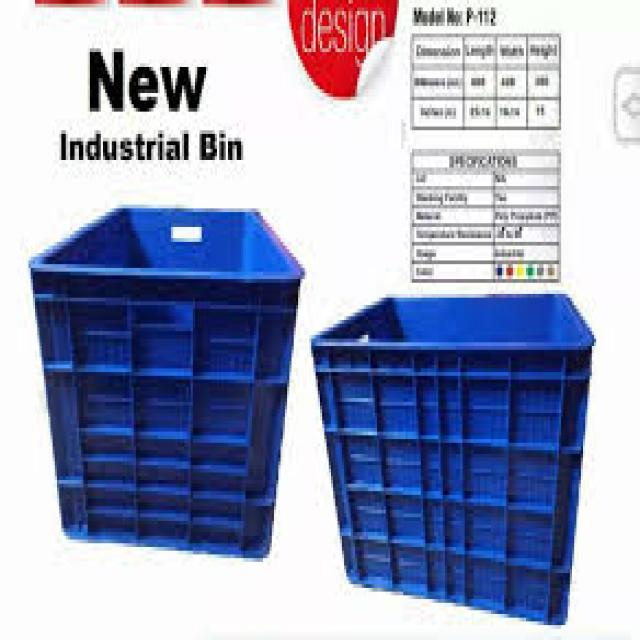basket: (0, 181, 313, 562), (287, 272, 601, 623)
